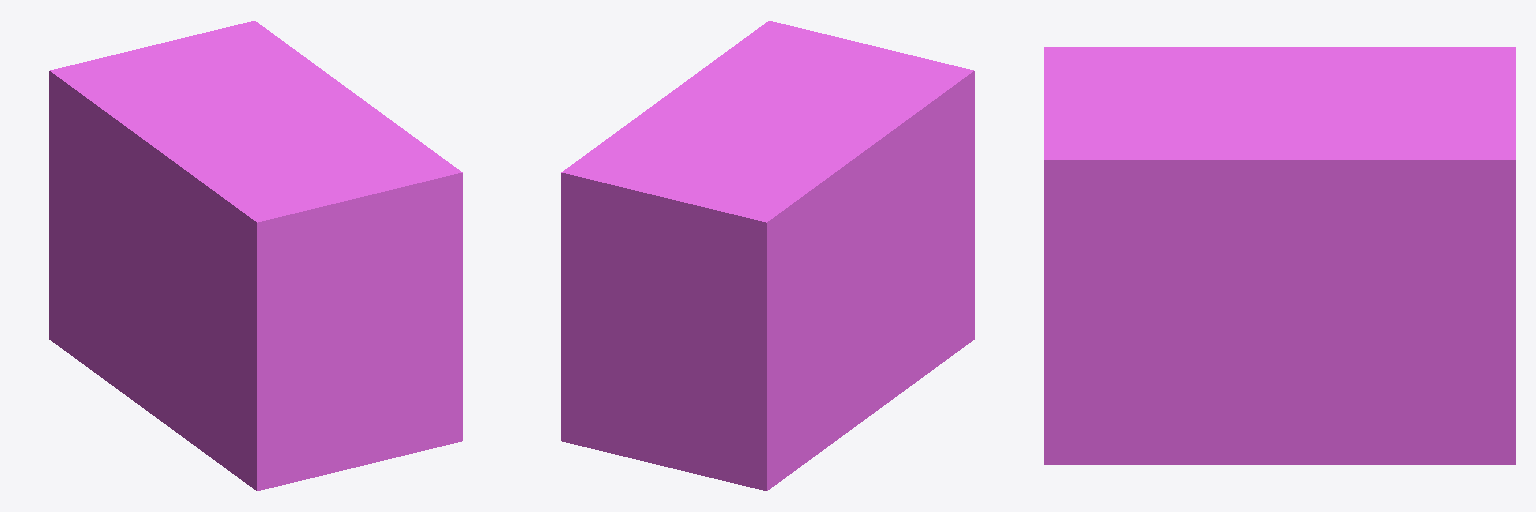
URDF robot description (object):
<?xml version="1.0"?>
<robot name="object">
  <link name="object">
    <visual>
      <origin xyz="0 0 0"/>
      <geometry>
        <!-- 宽胖型: 长(x)=0.04, 宽(y)=0.07, 高(z)=0.05 -->
        <box size="0.04 0.07 0.05"/>
      </geometry>
      <material name="color5">
        <color rgba="1.0 0.5 1.0 1.0"/>
      </material>
    </visual>
    <collision>
      <origin xyz="0 0 0"/>
      <geometry>
        <box size="0.04 0.07 0.05"/>
      </geometry>
    </collision>
    <inertial>
      <density value="567.0"/>
    </inertial>
  </link>
</robot>

--- Render facts (derived) ---
3 views of the same robot in one strip: view 1: azimuth 30°, elevation 25°; view 2: azimuth 150°, elevation 25°; view 3: azimuth 270°, elevation 25° (orthographic).
Model object with 1 links and 0 joints (none), rooted at object, posed all joints at 0.
Links seen in each view (by area): view 1: object; view 2: object; view 3: object.
Link boxes in pixels (x1,y1,x2,y2): object: (49, 21, 462, 490); object: (561, 21, 974, 490); object: (1044, 47, 1515, 464).
Size in the robot's own frame: 0.04 by 0.07 by 0.05 metres.
Geometry: primitives only (box / cylinder / sphere), no mesh files.